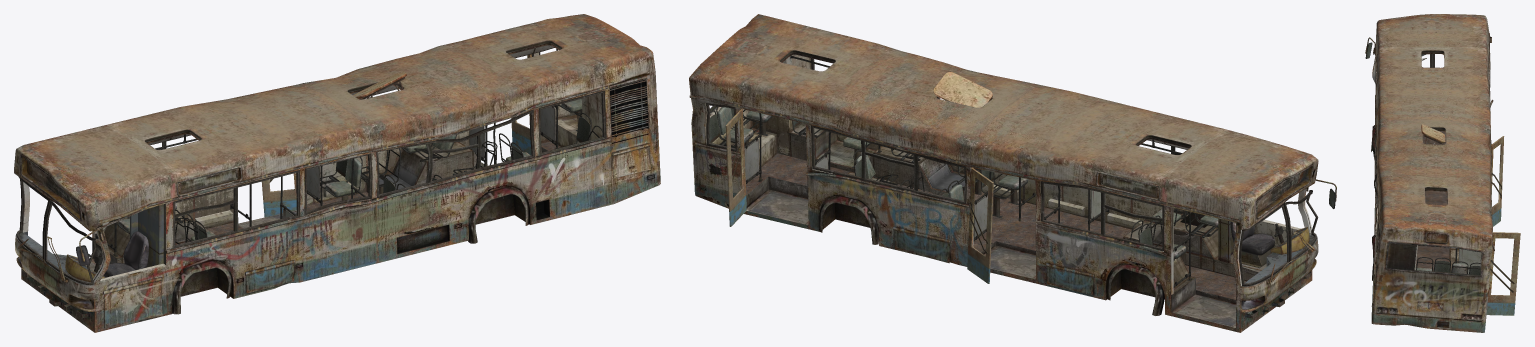
Rendered from bus_destroyed.glb.
3 renders of one model, left to right at view 1: azimuth 30°, elevation 25°; view 2: azimuth 150°, elevation 25°; view 3: azimuth 270°, elevation 25°, orthographic. The views are drawn at different scales.
Parts seen in each view (by area): view 1: mesh_0_veh\bus_01_0, mesh_1_veh\bus_02_0, mesh_3_veh\bus_04_0, mesh_4_veh\bus_05_0, mesh_2_veh\bus_03_0, mesh_5_metal\metal_tile_0; view 2: mesh_0_veh\bus_01_0, mesh_1_veh\bus_02_0, mesh_2_veh\bus_03_0, mesh_3_veh\bus_04_0, mesh_4_veh\bus_05_0, mesh_5_metal\metal_tile_0; view 3: mesh_0_veh\bus_01_0, mesh_4_veh\bus_05_0, mesh_2_veh\bus_03_0, mesh_1_veh\bus_02_0, mesh_5_metal\metal_tile_0, mesh_3_veh\bus_04_0.
Part boxes in pixels (left/top/right/bottom): mesh_0_veh\bus_01_0: left=14, top=14, right=660, bottom=332; mesh_1_veh\bus_02_0: left=76, top=75, right=659, bottom=332; mesh_3_veh\bus_04_0: left=15, top=45, right=606, bottom=285; mesh_4_veh\bus_05_0: left=65, top=49, right=602, bottom=282; mesh_2_veh\bus_03_0: left=22, top=40, right=606, bottom=284; mesh_5_metal\metal_tile_0: left=103, top=141, right=560, bottom=277; mesh_0_veh\bus_01_0: left=689, top=14, right=1318, bottom=332; mesh_1_veh\bus_02_0: left=689, top=95, right=1336, bottom=332; mesh_2_veh\bus_03_0: left=705, top=50, right=1312, bottom=327; mesh_3_veh\bus_04_0: left=705, top=58, right=1318, bottom=293; mesh_4_veh\bus_05_0: left=709, top=55, right=1309, bottom=287; mesh_5_metal\metal_tile_0: left=746, top=153, right=1246, bottom=299; mesh_0_veh\bus_01_0: left=1371, top=14, right=1492, bottom=332; mesh_4_veh\bus_05_0: left=1415, top=136, right=1520, bottom=315; mesh_2_veh\bus_03_0: left=1372, top=50, right=1490, bottom=270; mesh_1_veh\bus_02_0: left=1365, top=33, right=1494, bottom=320; mesh_5_metal\metal_tile_0: left=1415, top=131, right=1448, bottom=271; mesh_3_veh\bus_04_0: left=1374, top=54, right=1482, bottom=275.
Size of the model in its own units: 14.71 by 3.8 by 4.37.
Materials: 7 (7 with a texture image).
